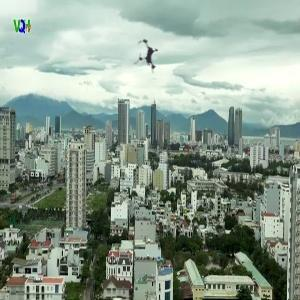drone: (120, 29, 176, 85)
